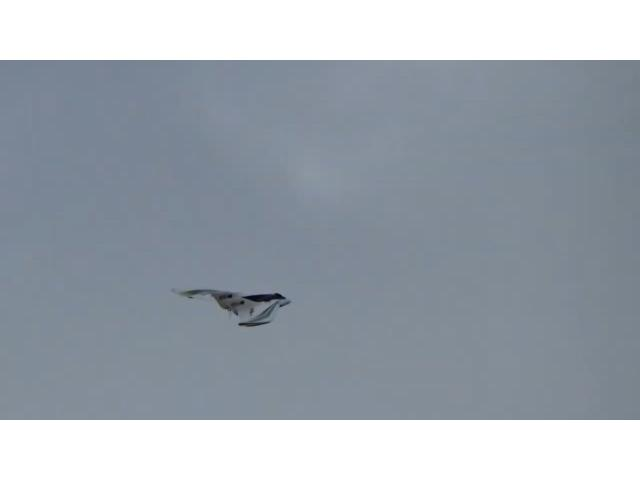Anti-Drone: (169, 286, 293, 326)
